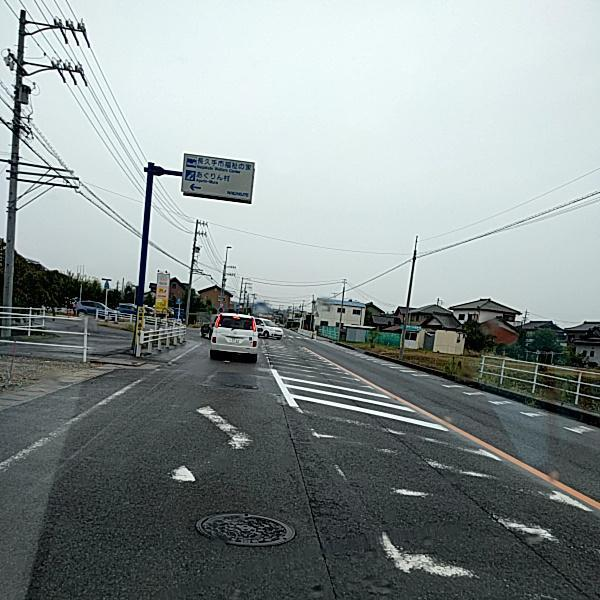D43: (143, 403, 248, 489)
D44: (266, 339, 599, 599), (0, 370, 158, 461)
D50: (194, 511, 297, 544)
